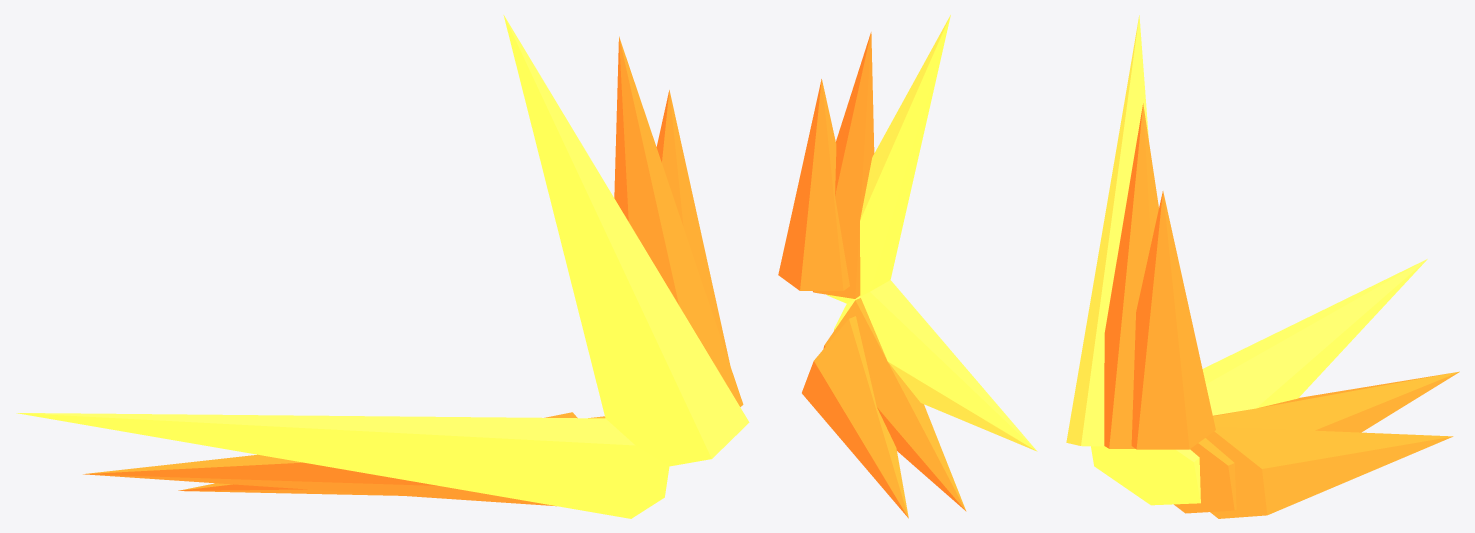
File: SM_Keeper_Seraphs_Flame2.fbx
3 renders of one model, left to right at view 1: azimuth 30°, elevation 25°; view 2: azimuth 150°, elevation 25°; view 3: azimuth 270°, elevation 25°, orthographic. The views are drawn at different scales.
Visible parts, largest first — view 1: SM_Keeper_Seraphs_Flame2; view 2: SM_Keeper_Seraphs_Flame2; view 3: SM_Keeper_Seraphs_Flame2.
Boxes of the visible parts, x1=… form: SM_Keeper_Seraphs_Flame2: x1=16, y1=15, x2=749, y2=518; SM_Keeper_Seraphs_Flame2: x1=778, y1=15, x2=1037, y2=518; SM_Keeper_Seraphs_Flame2: x1=1066, y1=15, x2=1459, y2=518.
Bounding box in the file's own units: 1.52 × 1.58 × 1.19.
